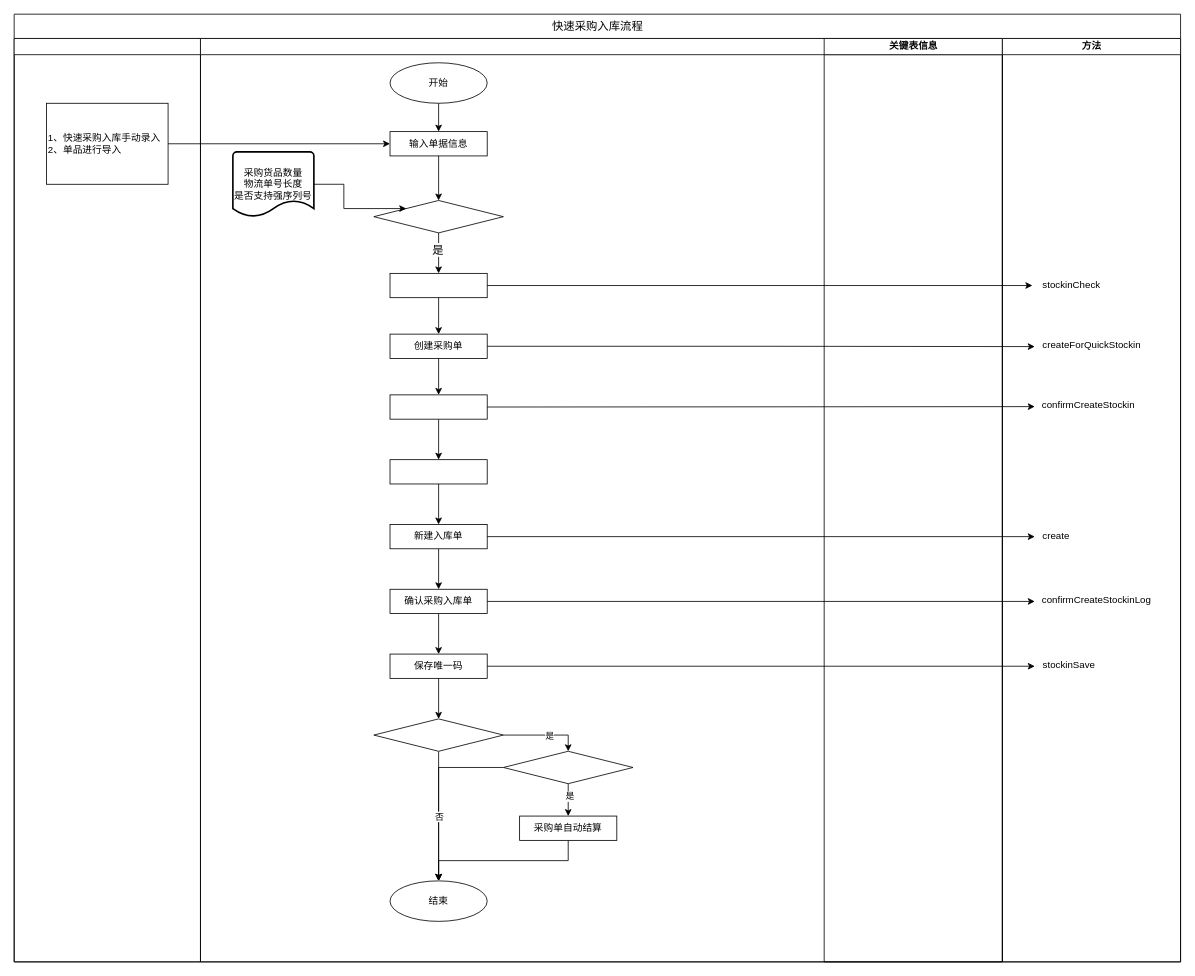
This 1195x976 diagram has some shape labels left out. Each missing label, with the box of its shape:
关联入库单: (389, 394, 487, 419)
数据合法性校验: (373, 200, 503, 233)
是否提交并审核: (373, 718, 503, 751)
是否自动结算: (503, 750, 633, 784)
检查唯一码: (389, 273, 487, 298)
输入: (13, 38, 200, 962)
重算税前总货款、税后单价: (389, 459, 487, 484)
